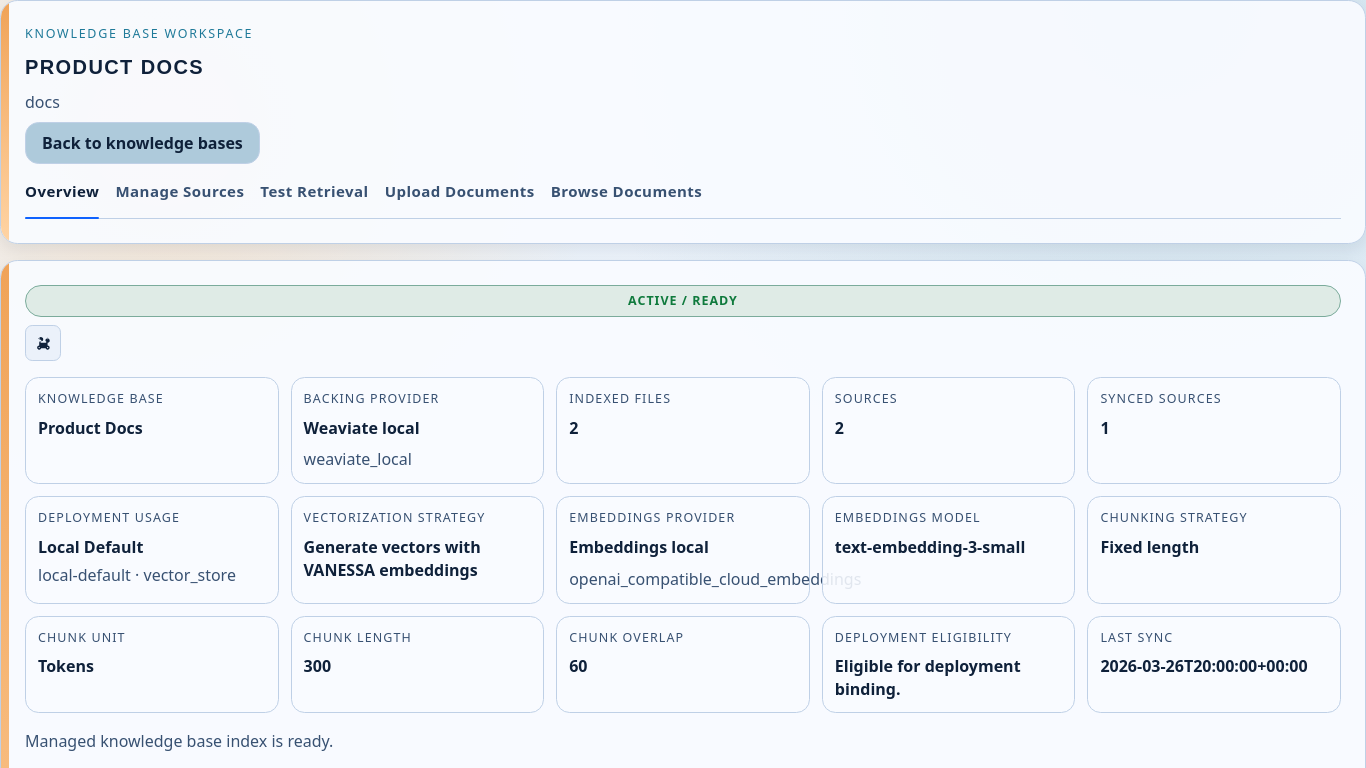
Test: ContextKnowledgeBaseWorkspace pages › renders the overview page with metadata and workspace subnav
expect the heading "Product Docs" is shown: met, box [25,56,204,78]
expect the link "Overview" is shown: met, box [25,172,99,210]
Click the button named "View lifecycle for Product Docs" at (43, 343), box [25,325,61,361]
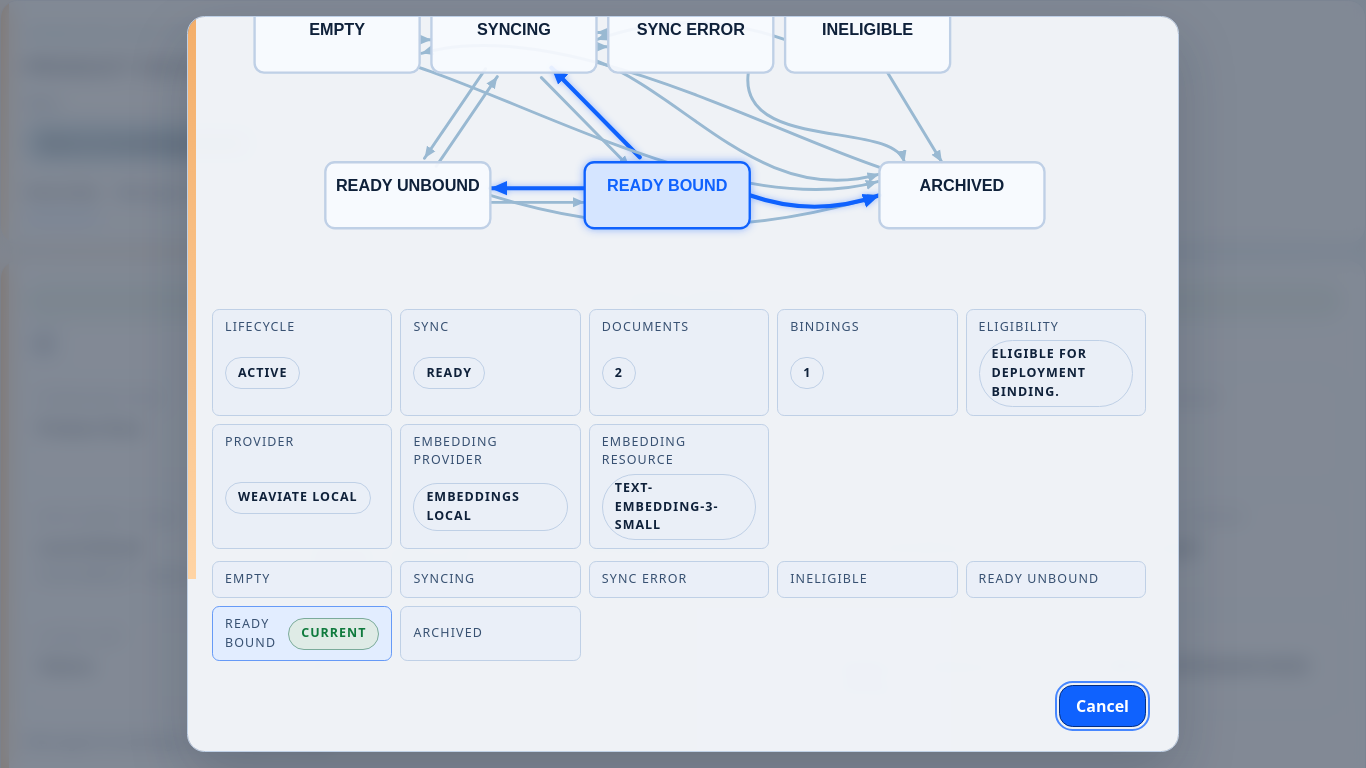
expect the dialog is shown: met
expect the text "Lifecycle" is shown: met, box [225,318,295,335]
expect the text "active" is shown: met, box [225,358,300,390]
